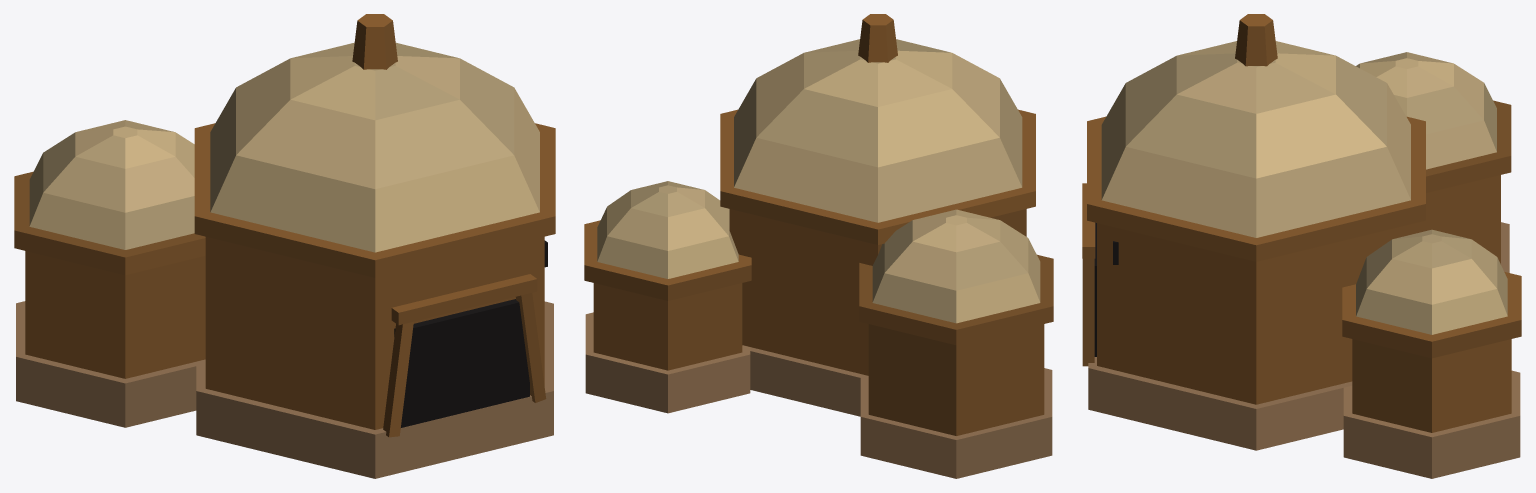
File: hive_cell.glb
3 views of the same model, side by side, from view 1: azimuth 30°, elevation 25°; view 2: azimuth 150°, elevation 25°; view 3: azimuth 270°, elevation 25° (orthographic). The views are drawn at different scales.
Parts seen in each view (by area): view 1: hive_cell; view 2: hive_cell; view 3: hive_cell.
Boxes of the visible parts, box(x1,y1,x2,y2) form: hive_cell: box(14, 14, 555, 478); hive_cell: box(584, 14, 1053, 478); hive_cell: box(1082, 14, 1521, 478).
Size of the model in its own units: 6.78 by 4.6 by 5.26.
1 material, 1 textured.
